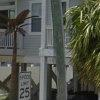Tree: (61, 4, 100, 80)
